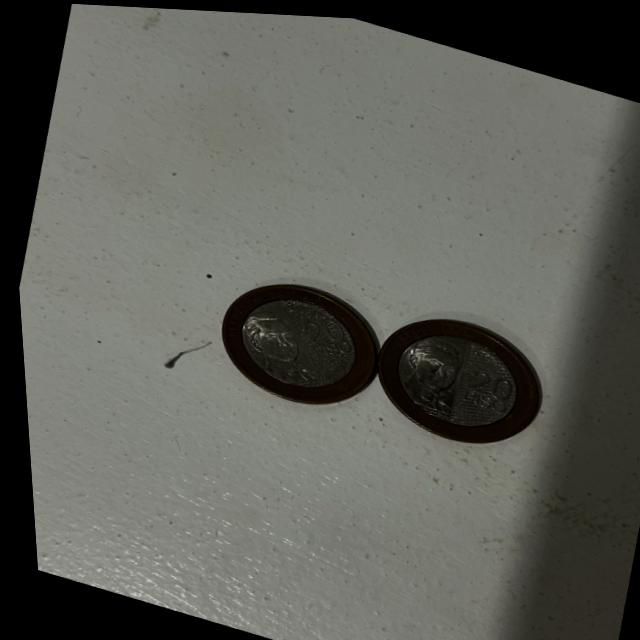20_New_Front: (450, 354, 515, 414), (287, 306, 353, 364)
